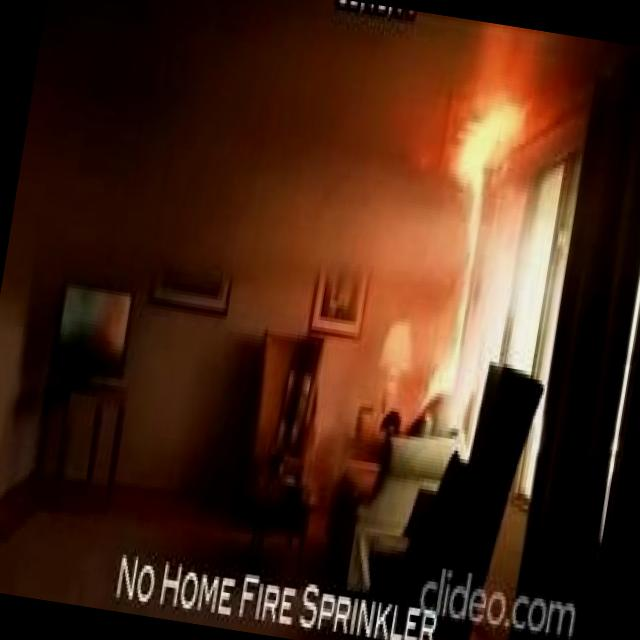fire: (386, 26, 548, 408)
